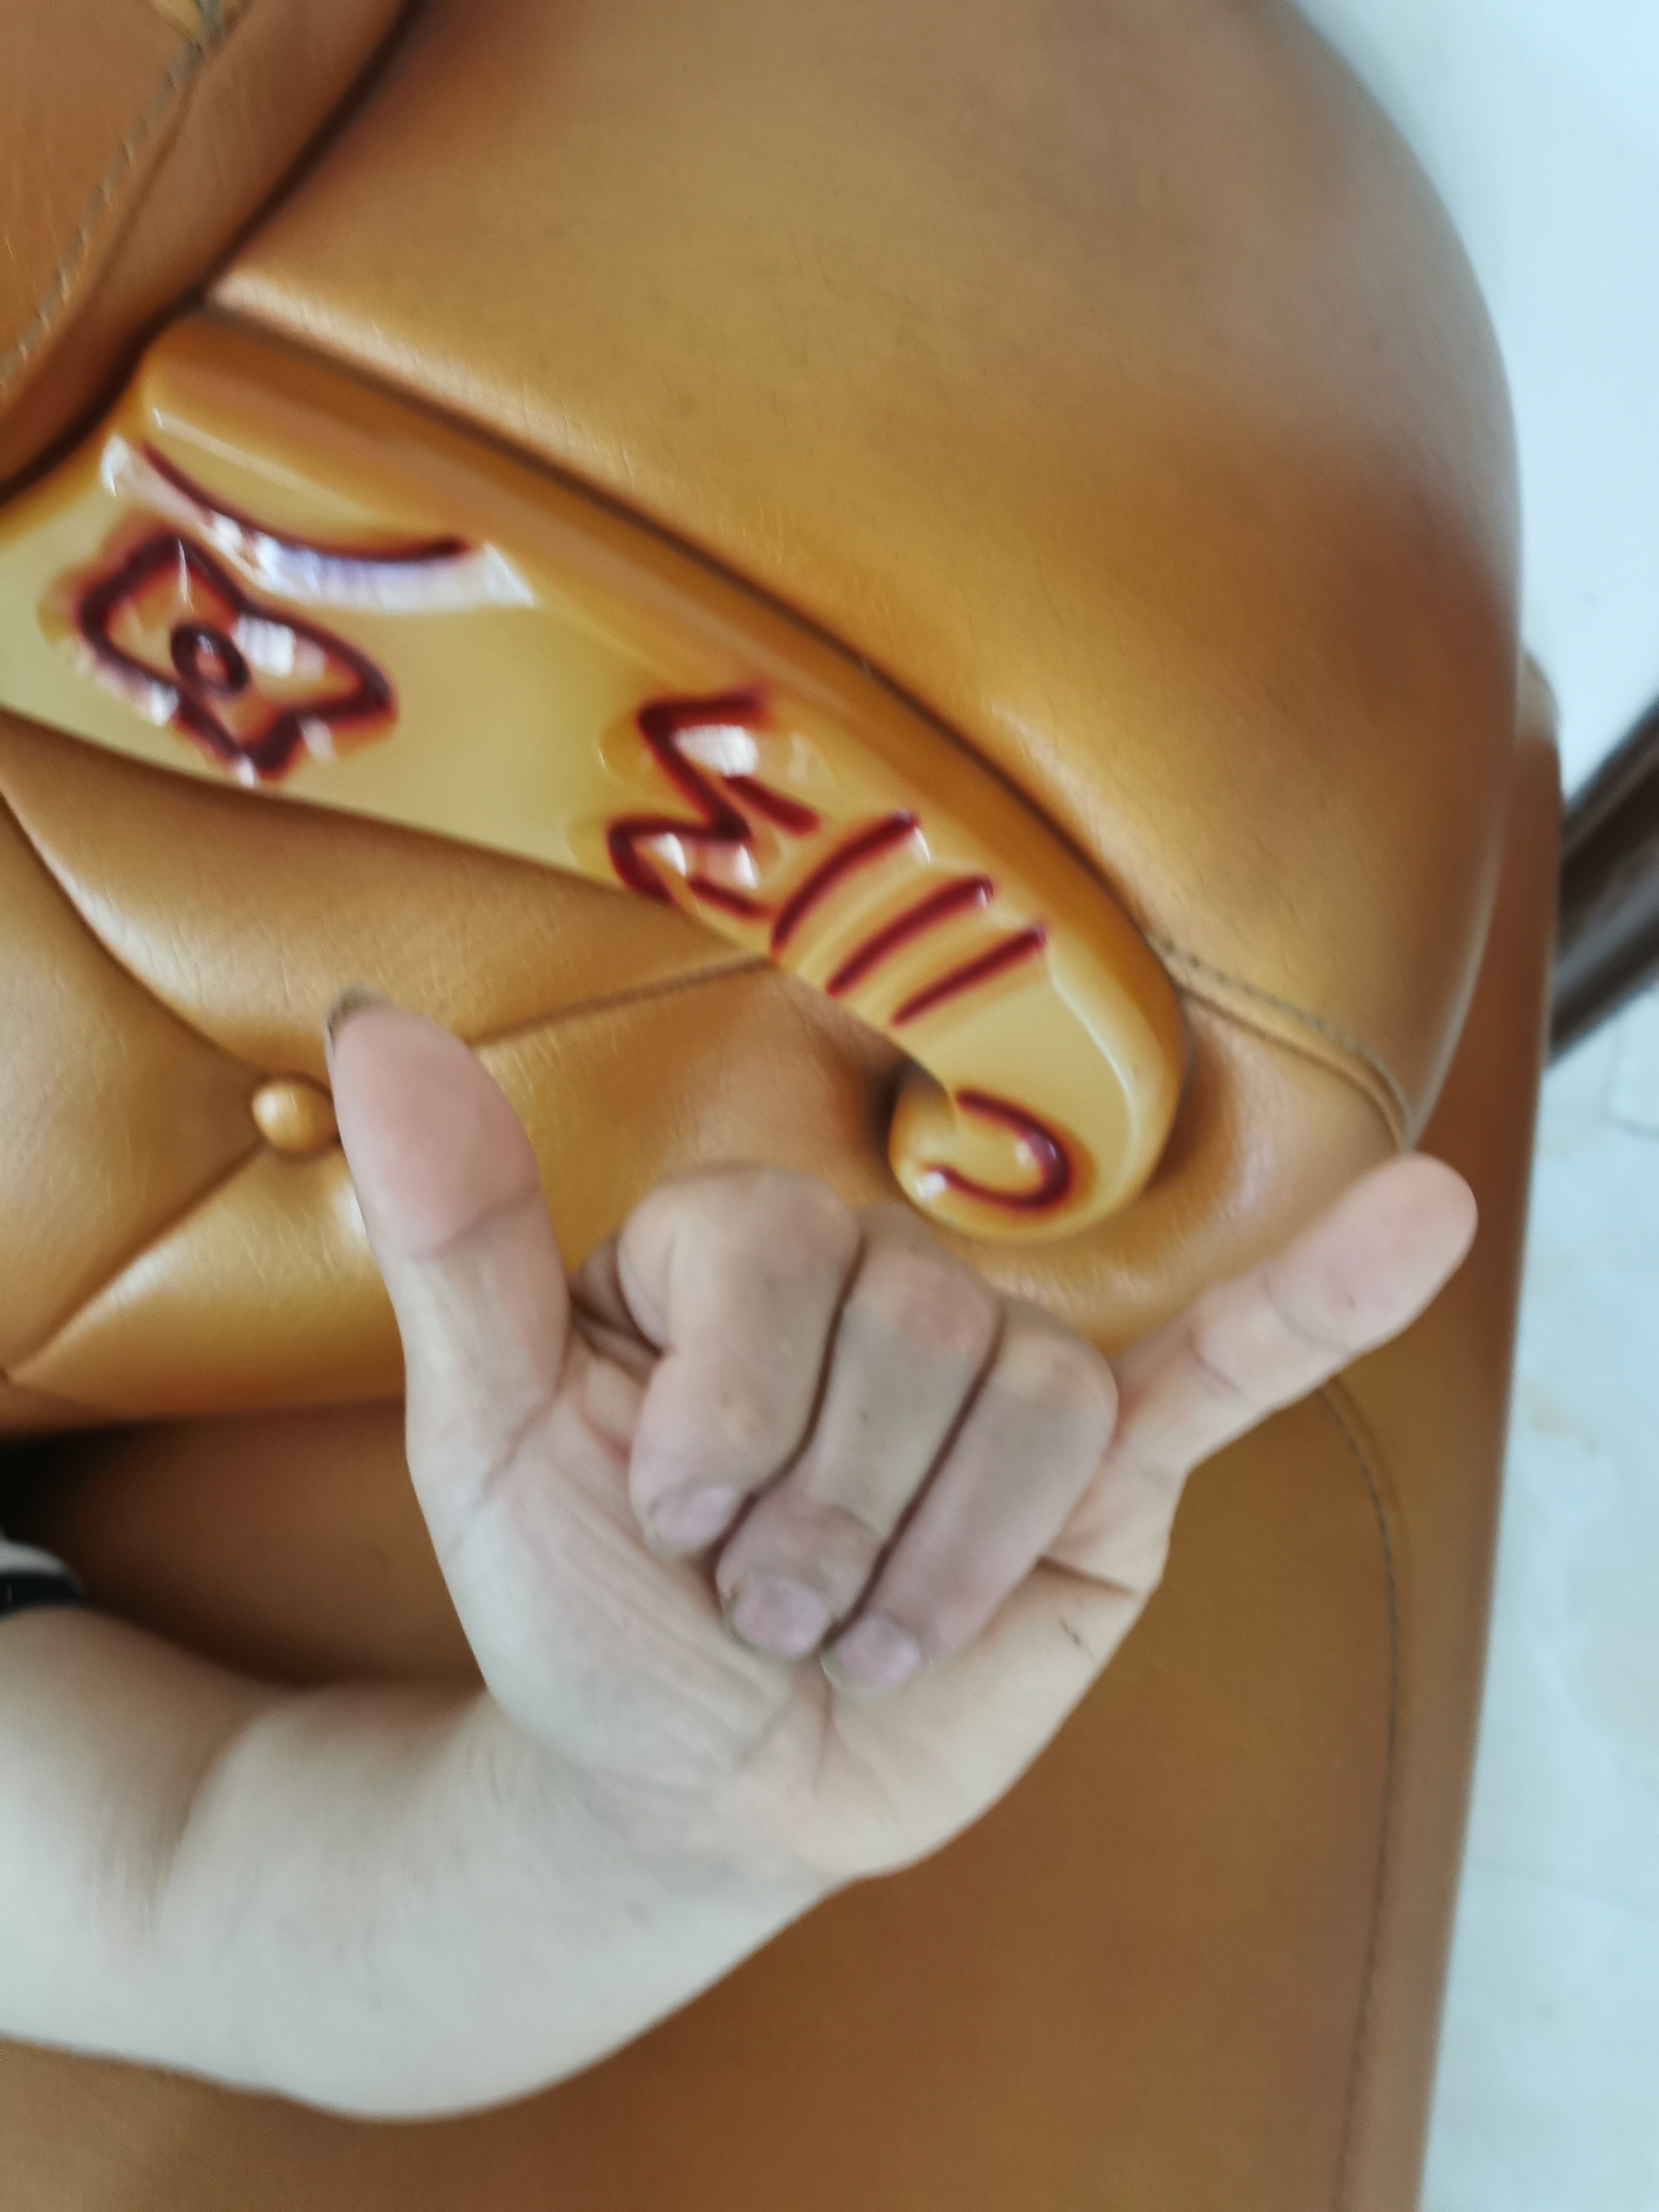clockwise: (342, 982, 1497, 1763)
